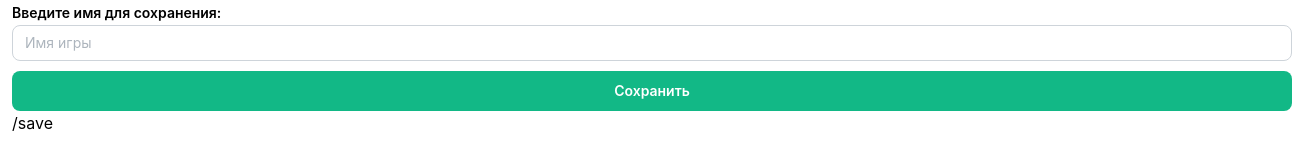
SaveGame › сохраняет активную игру под именем с обрезанными пробелами
This screenshot has width=1304, height=160.
Type "  Финал  " into the field labelled "Введите имя для сохранения:".
click(652, 43); type("  Финал  ")  # box [12,25,1292,61]
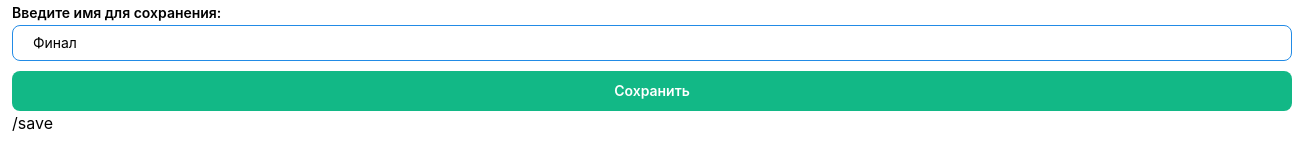
Click the button "Сохранить".
click(652, 91)  # box [12,71,1292,111]
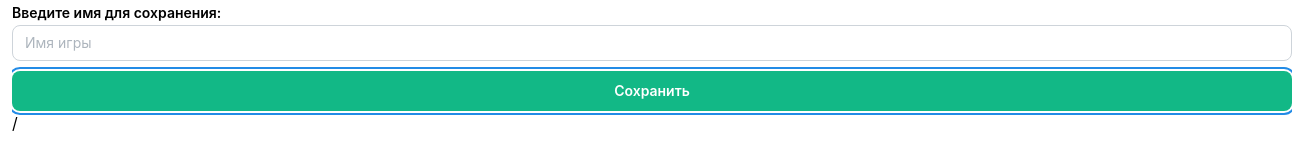
Check: the text with test id "location" reads "/", box [12,113,18,133]
